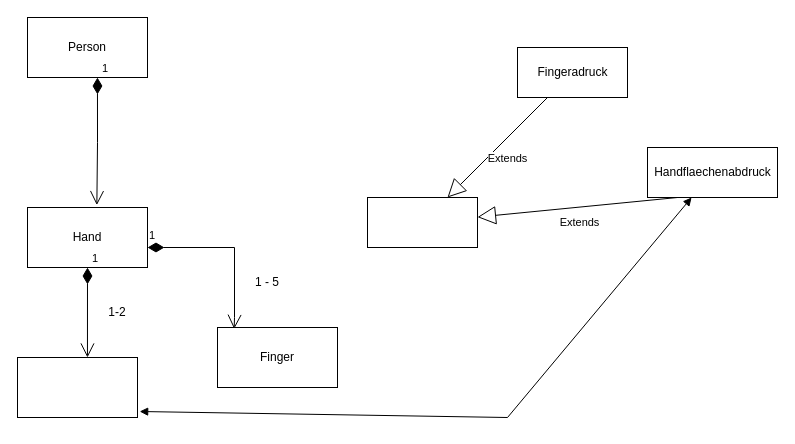
Image size: 795x444. Some labels were removed from this diagram. The centre of each missing label's shape, as x and y in pixels:
Abdruck: pixel 422 222
Handflaeche: pixel 77 387
